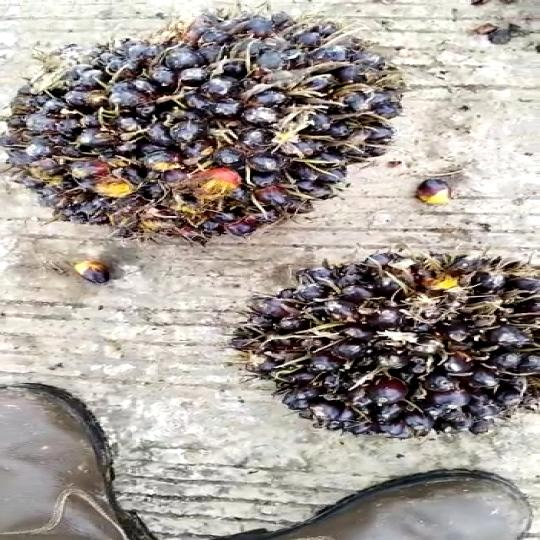mentah: (5, 17, 403, 253), (210, 252, 540, 442)
